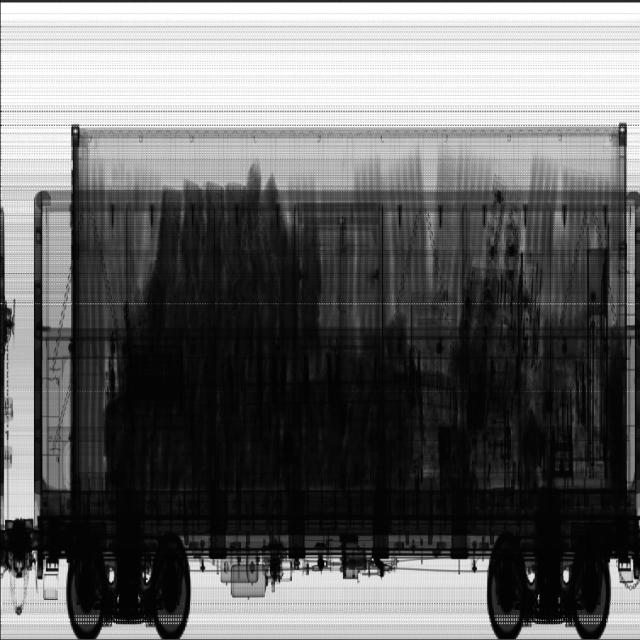clothes: (104, 161, 408, 489)
